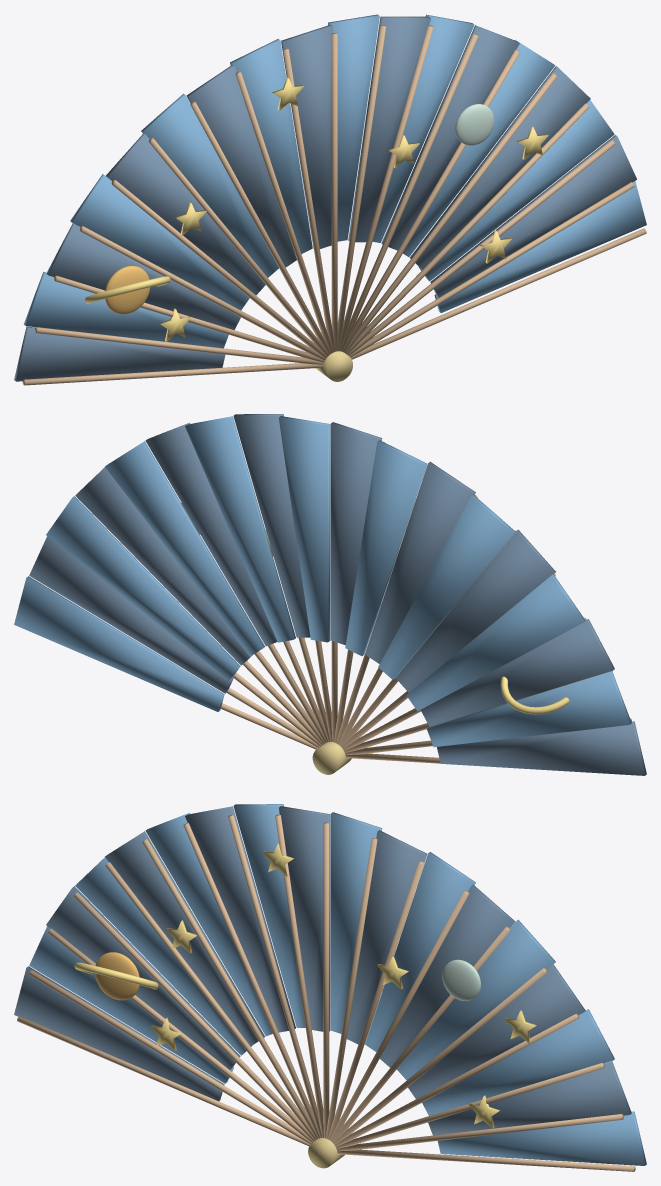
File: handheld-fan.glb
3 views of the same model, one above another, from view 1: azimuth 30°, elevation 25°; view 2: azimuth 150°, elevation 25°; view 3: azimuth 330°, elevation 25° (orthographic).
Visible parts, largest first — view 1: part0, part18, part46; view 2: part0, part18, part46; view 3: part0, part18, part46.
Boxes of the visible parts, x1,y1,x2,y2 form: part0: (14, 14, 646, 381); part18: (22, 25, 646, 385); part46: (316, 351, 352, 381); part0: (14, 414, 646, 775); part18: (181, 442, 631, 763); part46: (312, 742, 351, 774); part0: (14, 804, 646, 1165); part18: (17, 814, 635, 1171); part46: (308, 1138, 344, 1168).
Size of the model in its own units: 1 by 0.528 by 0.1068.
3 materials, 3 textured.
